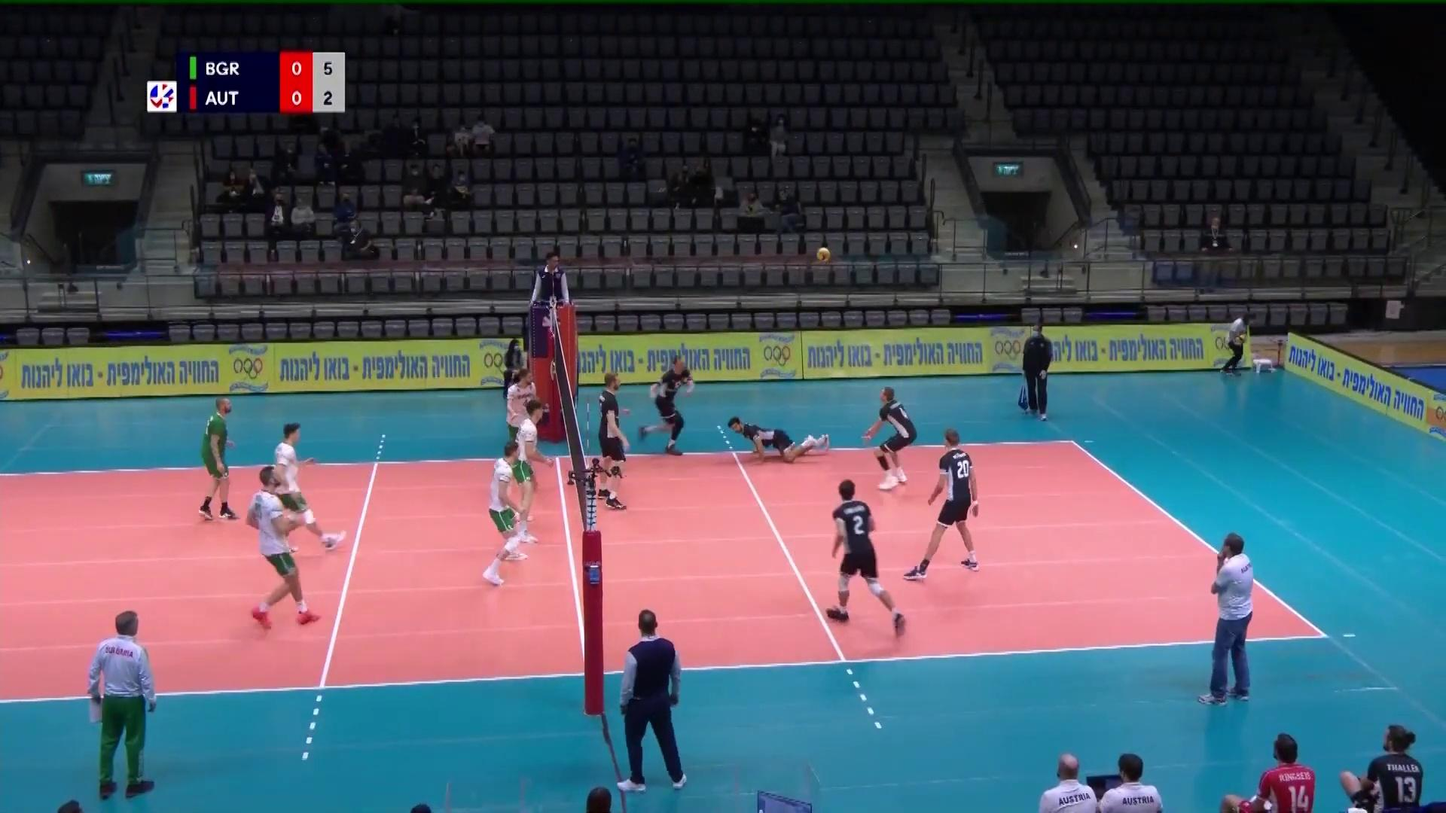ball: (817, 248, 830, 262)
